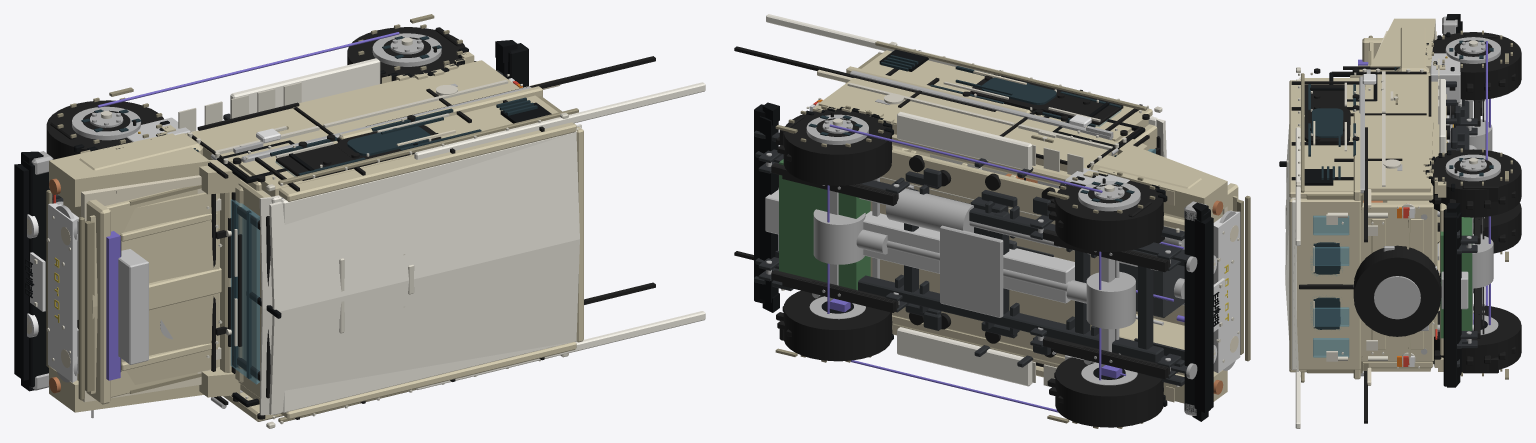
File: j40_full_vehicle_scaffold_rev_c_editable.obj
3 renders of one model, left to right at view 1: azimuth 30°, elevation 25°; view 2: azimuth 150°, elevation 25°; view 3: azimuth 270°, elevation 25°, orthographic. The views are drawn at different scales.
Visible parts, largest first — view 1: white_hardtop_crowned_roof_skin, hood_crowned_closed_skin, white_hardtop_roof, right_rear_quarter_waist_tapered_surface, right_front_fender_sloped_outer_skin, front_grille_inset_rounded_surround_surface, windshield_raked_glass_surface, right_hardtop_side_panel, fan_radiator_clearance_envelope, front_bumper_swept_main_face, right_door_outer_skin_tapered_surface, right_side_step_board (+37 smaller); view 2: floor_pan, rear_right_tire_tire, rear_underfloor_fuel_tank, rear_left_tire_tire, front_left_tire_tire, front_right_tire_tire, skid_plate_transfer_case, right_rear_quarter_waist_tapered_surface, left_frame_rail, right_side_step_board, front_bumper_swept_main_face, left_side_step_board (+47 smaller); view 3: rear_hardtop_panel, rear_spare_tire, right_rear_quarter_waist_tapered_surface, tailgate_panel, rear_right_tire_tire, front_right_tire_tire, rear_left_tire_tire, rear_bumper, right_hardtop_side_tapered_upper_skin, right_door_outer_skin_tapered_surface, right_front_fender_sloped_outer_skin, rear_spare_wheel_rim (+48 smaller).
Part boxes in pixels (bbox=[...]): white_hardtop_crowned_roof_skin: bbox=[269, 132, 579, 414]; hood_crowned_closed_skin: bbox=[89, 192, 219, 393]; white_hardtop_roof: bbox=[280, 126, 583, 412]; right_rear_quarter_waist_tapered_surface: bbox=[293, 60, 519, 133]; right_front_fender_sloped_outer_skin: bbox=[49, 133, 210, 206]; front_grille_inset_rounded_surround_surface: bbox=[48, 203, 77, 382]; windshield_raked_glass_surface: bbox=[230, 199, 259, 384]; right_hardtop_side_panel: bbox=[279, 97, 576, 201]; fan_radiator_clearance_envelope: bbox=[118, 249, 148, 364]; front_bumper_swept_main_face: bbox=[14, 164, 28, 380]; right_door_outer_skin_tapered_surface: bbox=[185, 108, 328, 164]; right_side_step_board: bbox=[230, 58, 380, 118]; floor_pan: bbox=[870, 148, 1098, 357]; rear_right_tire_tire: bbox=[783, 109, 891, 185]; rear_underfloor_fuel_tank: bbox=[779, 159, 870, 290]; rear_left_tire_tire: bbox=[783, 290, 891, 361]; front_left_tire_tire: bbox=[1055, 357, 1163, 427]; front_right_tire_tire: bbox=[1055, 180, 1163, 251]; skid_plate_transfer_case: bbox=[940, 225, 1003, 317]; right_rear_quarter_waist_tapered_surface: bbox=[818, 78, 1023, 135]; left_frame_rail: bbox=[858, 275, 1163, 362]; right_side_step_board: bbox=[897, 111, 1032, 169]; front_bumper_swept_main_face: bbox=[1194, 216, 1213, 412]; left_side_step_board: bbox=[897, 327, 1032, 386]; rear_hardtop_panel: bbox=[1289, 198, 1360, 369]; rear_spare_tire: bbox=[1353, 245, 1441, 336]; right_rear_quarter_waist_tapered_surface: bbox=[1365, 114, 1433, 192]; tailgate_panel: bbox=[1361, 202, 1433, 362]; rear_right_tire_tire: bbox=[1429, 149, 1521, 217]; front_right_tire_tire: bbox=[1432, 32, 1521, 99]; rear_left_tire_tire: bbox=[1433, 305, 1521, 372]; rear_bumper: bbox=[1443, 209, 1456, 386]; right_hardtop_side_tapered_upper_skin: bbox=[1304, 78, 1363, 199]; right_door_outer_skin_tapered_surface: bbox=[1365, 73, 1430, 114]; right_front_fender_sloped_outer_skin: bbox=[1370, 18, 1435, 73]; rear_spare_wheel_rim: bbox=[1374, 276, 1420, 319].
Bounding box in the file's own units: 4.47 × 1.96 × 1.99.
